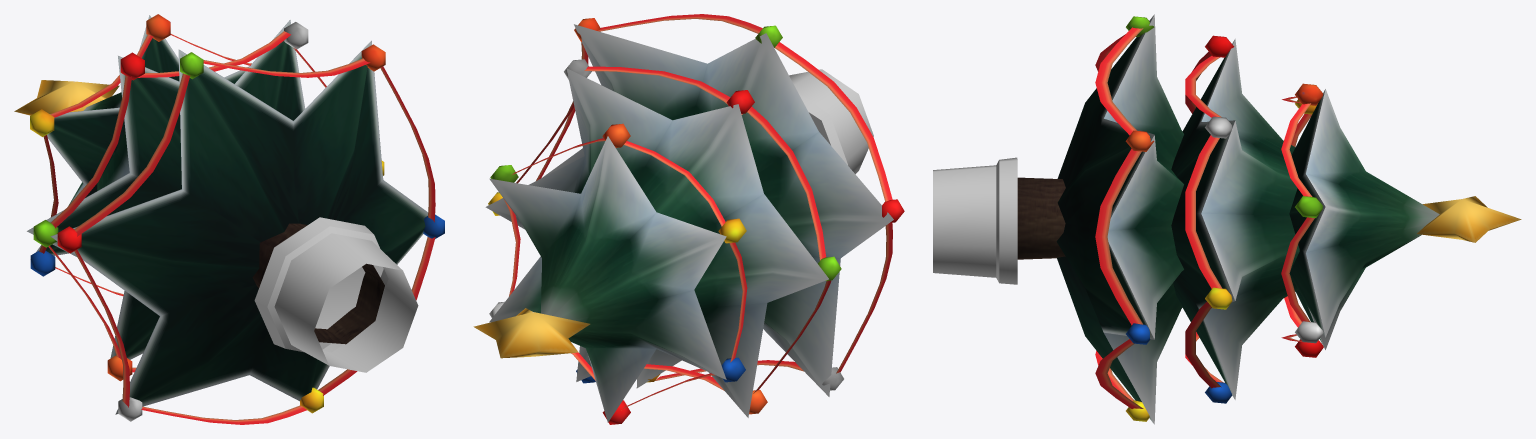
Rendered from Christmas_Tree_Pot.FBX.
3 renders of one model, left to right at view 1: azimuth 30°, elevation 25°; view 2: azimuth 150°, elevation 25°; view 3: azimuth 270°, elevation 25°, orthographic. The views are drawn at different scales.
Parts seen in each view (by area): view 1: Christmas_Tree_Pot; view 2: Christmas_Tree_Pot; view 3: Christmas_Tree_Pot.
Part boxes in pixels (x1,y1,x2,y2): Christmas_Tree_Pot: (14, 14, 444, 424); Christmas_Tree_Pot: (473, 14, 904, 424); Christmas_Tree_Pot: (933, 14, 1521, 424).
Bounding box in the file's own units: 47.52 × 45.65 × 68.95.
